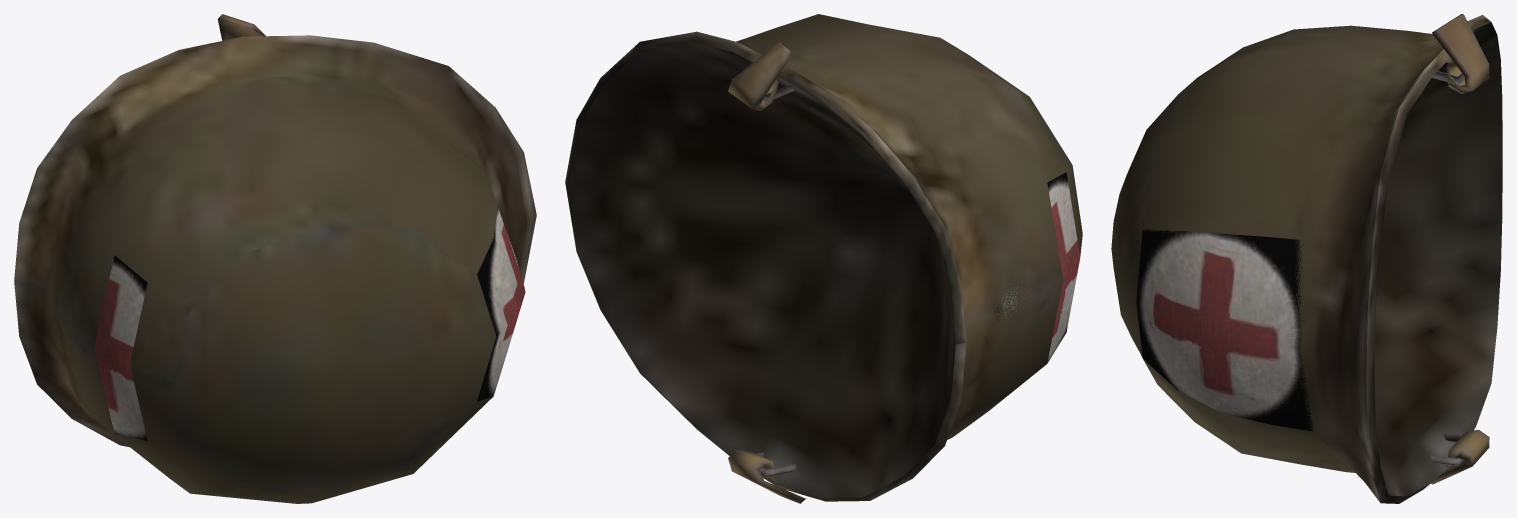
Rendered from helmet_us_ranger_medic_wells.glb.
3 renders of one model, left to right at view 1: azimuth 30°, elevation 25°; view 2: azimuth 150°, elevation 25°; view 3: azimuth 270°, elevation 25°, orthographic.
Size of the model in its own units: 11.83 by 11.05 by 8.5.
Materials: 2 (2 with a texture image).
